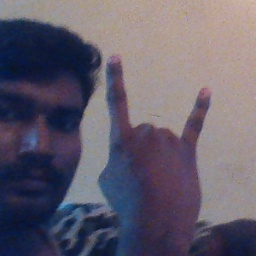V: (98, 50, 218, 244)
